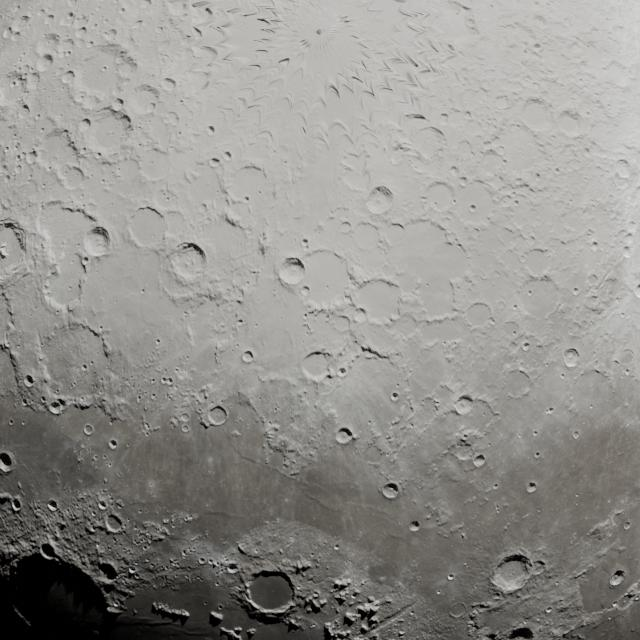crater: (241, 568, 299, 618), (488, 556, 534, 593), (171, 239, 207, 283), (81, 223, 114, 258), (278, 258, 306, 285), (101, 509, 124, 535), (36, 540, 61, 561), (94, 561, 120, 581), (0, 450, 19, 476), (209, 403, 229, 426), (454, 395, 476, 415), (454, 440, 474, 460), (334, 426, 356, 444), (608, 568, 626, 588), (381, 482, 400, 499), (10, 497, 28, 514), (48, 398, 66, 414), (45, 498, 60, 511), (405, 522, 422, 533), (241, 351, 255, 364), (106, 441, 120, 451)
